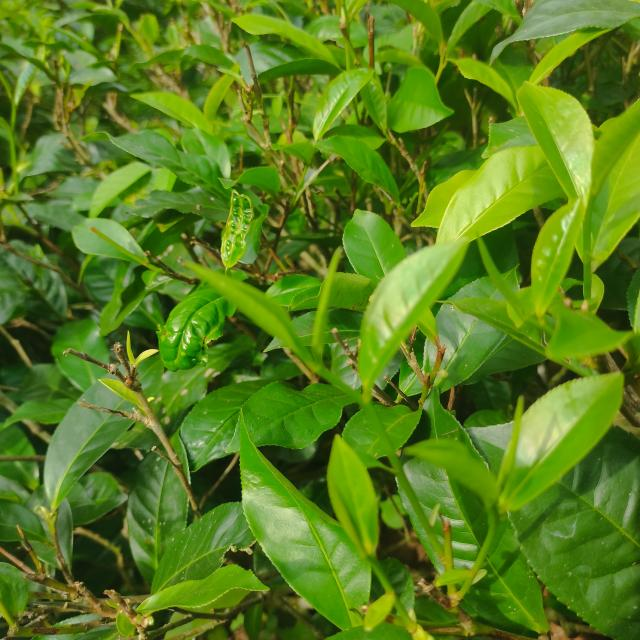unopened_leaf: (468, 224, 537, 329), (302, 244, 349, 368), (488, 384, 535, 494), (326, 475, 372, 563), (124, 326, 138, 371)
